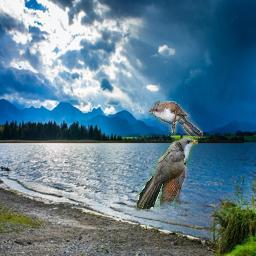Cuckoo: (136, 137, 198, 210), (149, 101, 204, 139)
